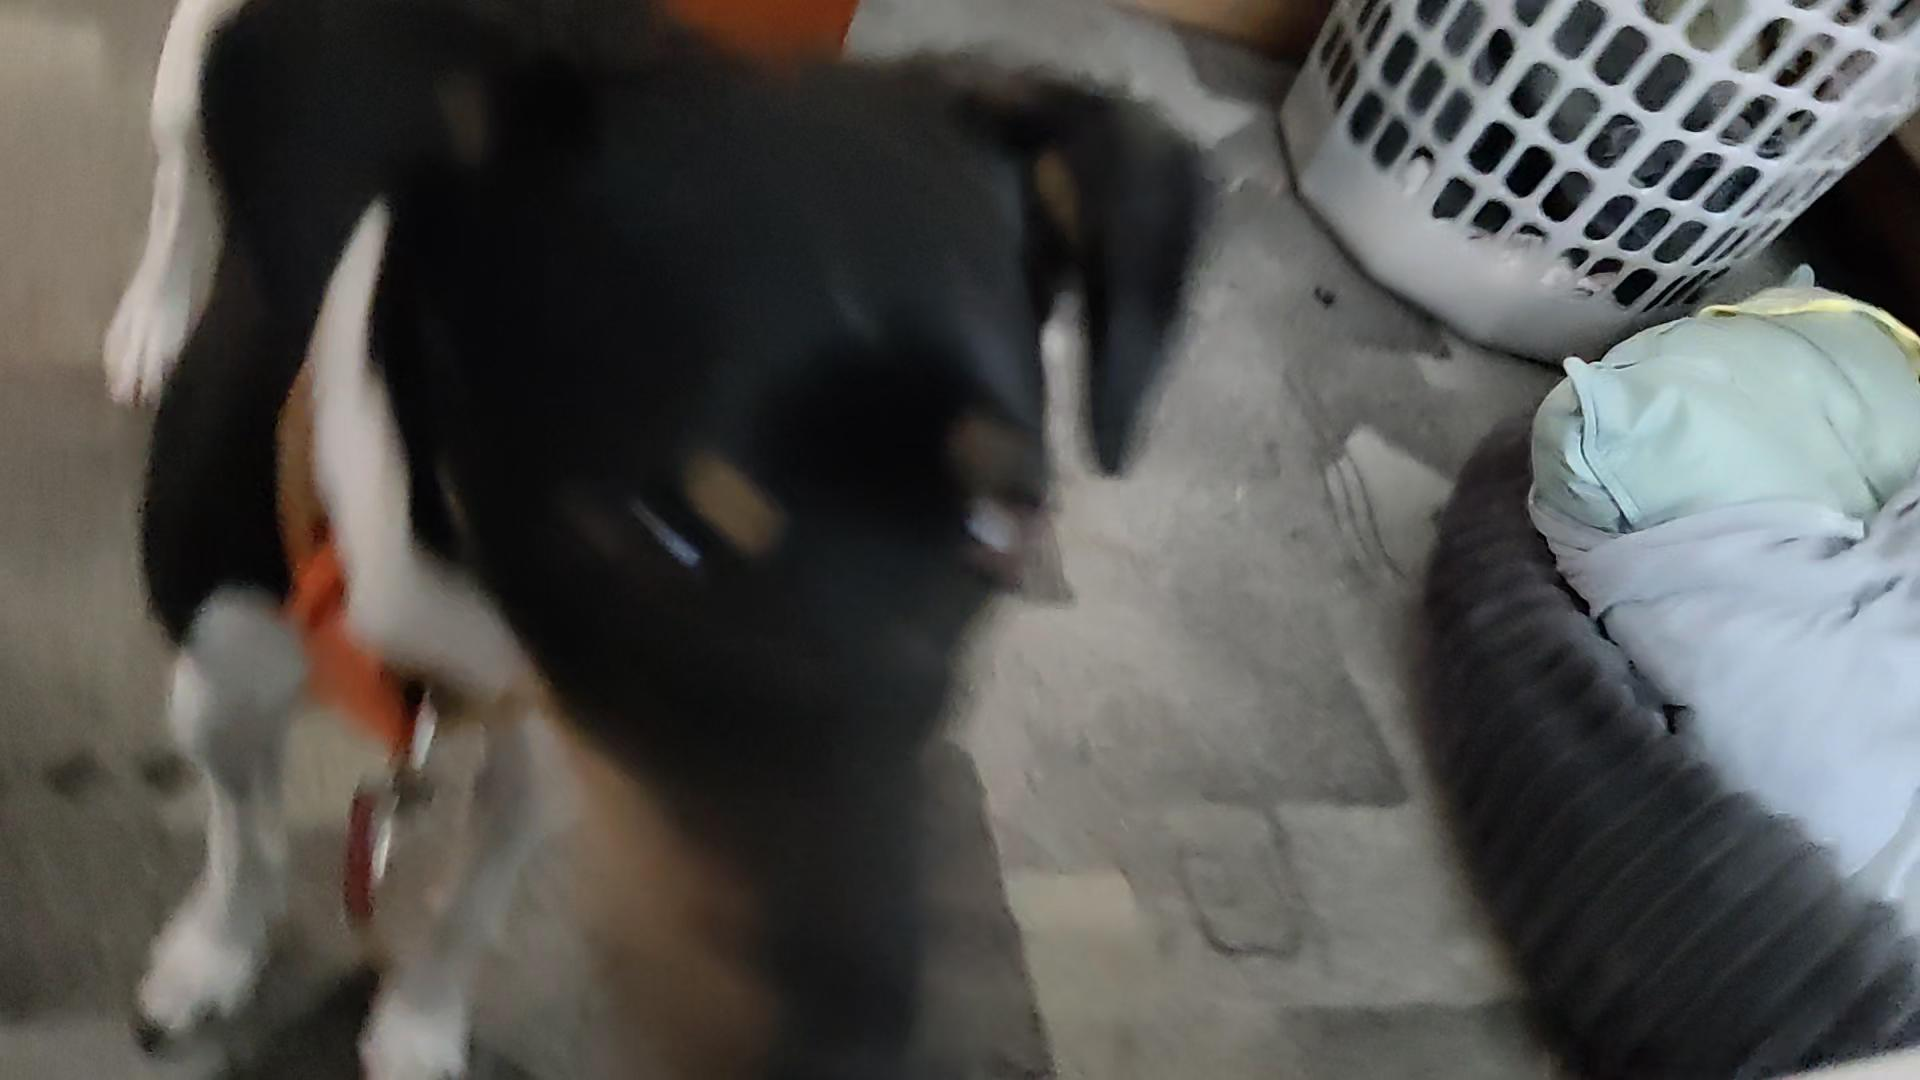Dog: (84, 0, 1222, 1080)
